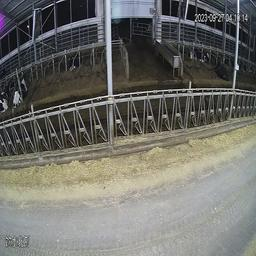cow: (13, 71, 28, 112), (214, 53, 231, 86), (189, 40, 208, 68), (1, 73, 11, 118), (67, 47, 79, 74)
